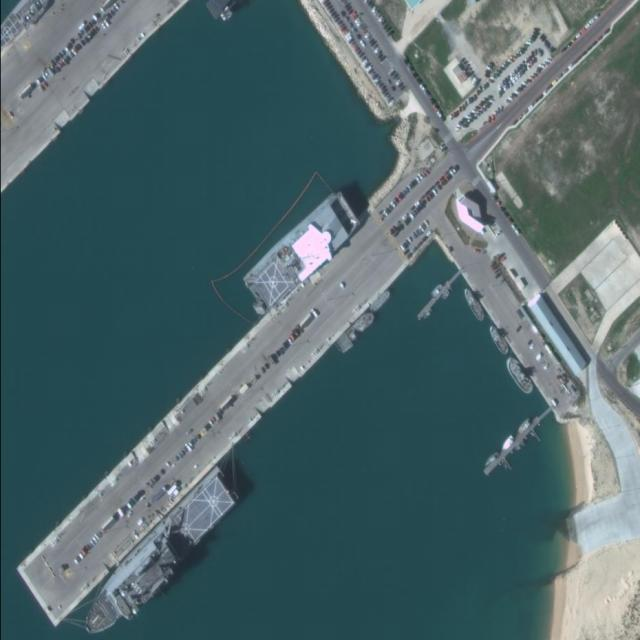Auxiliary Ships: (235, 185, 370, 313)
Dock: (5, 189, 438, 626)
Landing: (72, 470, 239, 639)
